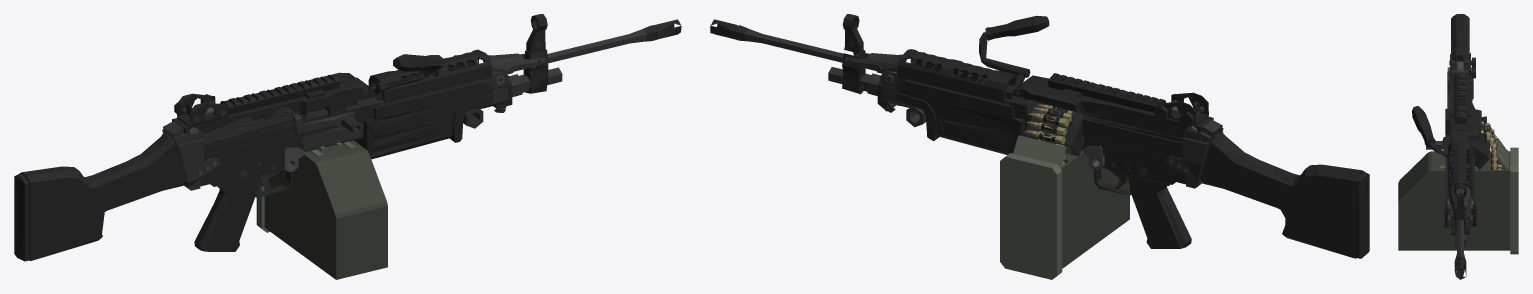
Rendered from lightlmg.glb.
3 renders of one model, left to right at view 1: azimuth 30°, elevation 25°; view 2: azimuth 150°, elevation 25°; view 3: azimuth 270°, elevation 25°, orthographic. The views are drawn at different scales.
Visible parts, largest first — view 1: Object_16, Object_29, Object_17, Object_21, Object_23; view 2: Object_16, Object_23, Object_17, Object_29, Object_26, Object_21; view 3: Object_29, Object_16, Object_17, Object_23, Object_26, Object_21, Object_28.
Boxes of the visible parts, bbox=[...] form: Object_16: bbox=[14, 14, 681, 261]; Object_29: bbox=[264, 140, 387, 279]; Object_17: bbox=[162, 29, 646, 191]; Object_21: bbox=[177, 72, 504, 174]; Object_23: bbox=[256, 141, 355, 232]; Object_16: bbox=[710, 14, 1369, 258]; Object_23: bbox=[1000, 135, 1070, 279]; Object_17: bbox=[745, 29, 1223, 189]; Object_29: bbox=[1060, 150, 1129, 268]; Object_26: bbox=[1032, 105, 1072, 166]; Object_21: bbox=[885, 71, 1209, 172]; Object_29: bbox=[1398, 151, 1510, 250]; Object_16: bbox=[1412, 14, 1502, 279]; Object_17: bbox=[1426, 60, 1486, 268]; Object_23: bbox=[1439, 138, 1518, 254]; Object_26: bbox=[1480, 121, 1502, 169]; Object_21: bbox=[1447, 61, 1473, 208]; Object_28: bbox=[1487, 135, 1496, 169].
Size of the model in its own units: 1.04 by 0.3032 by 0.2094.
